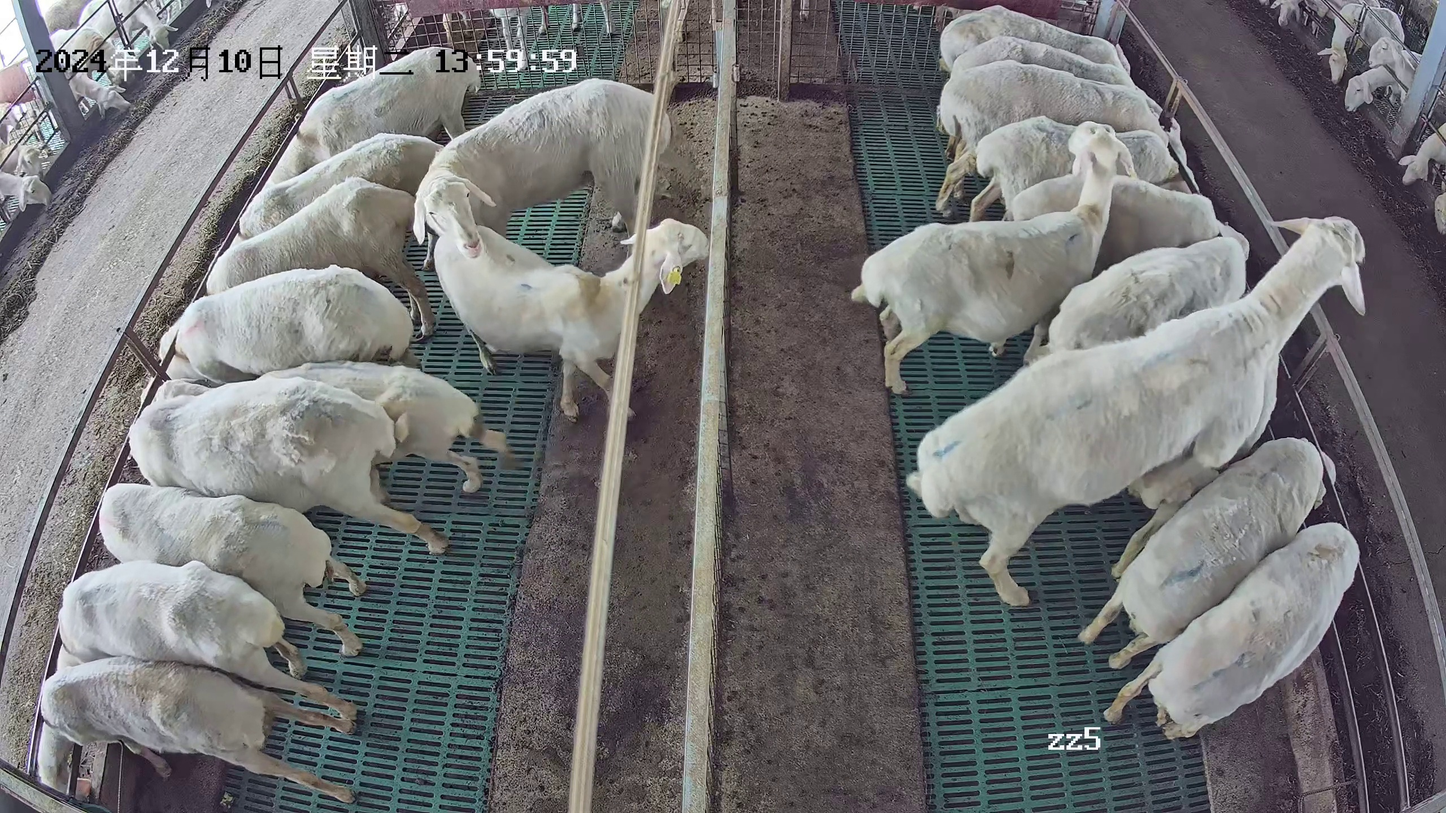Smounting: (907, 213, 1367, 607)
mounted: (1111, 344, 1283, 579)
